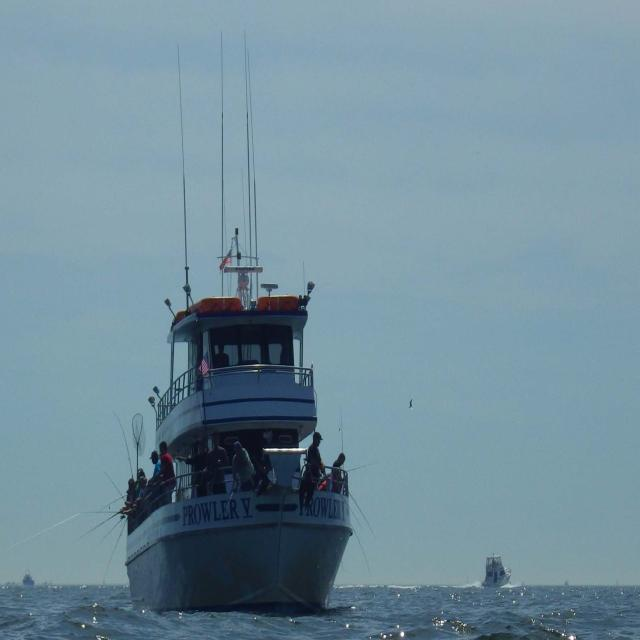fishing boat: (113, 249, 364, 612)
